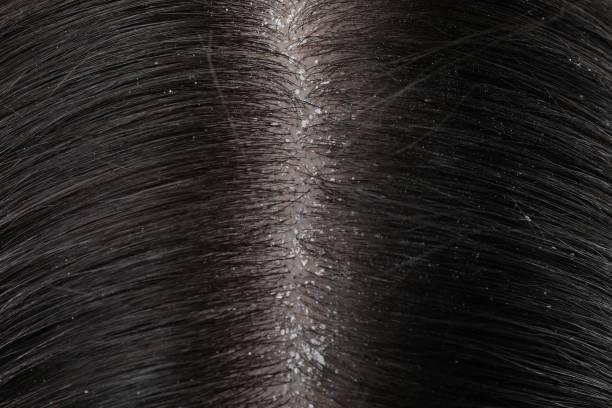dandruff: (270, 214, 359, 290), (269, 305, 344, 388), (266, 42, 322, 115), (309, 160, 355, 208), (259, 6, 301, 29), (563, 46, 592, 76), (162, 83, 176, 99), (519, 209, 531, 224)
